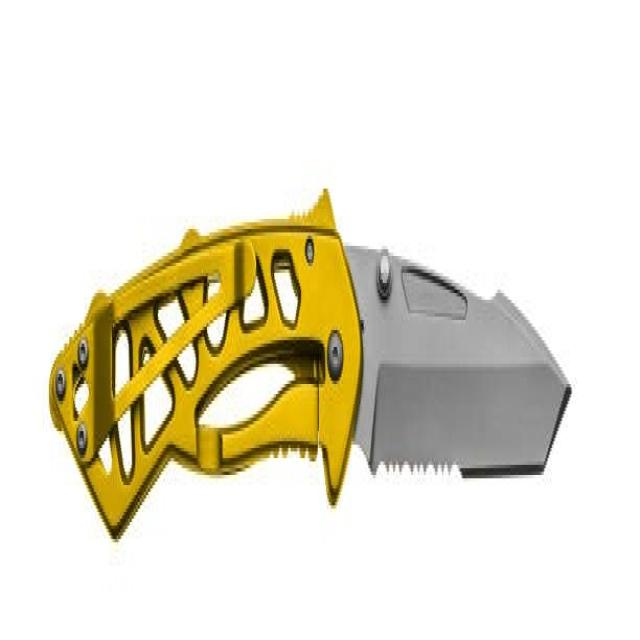knife: (49, 202, 576, 553)
